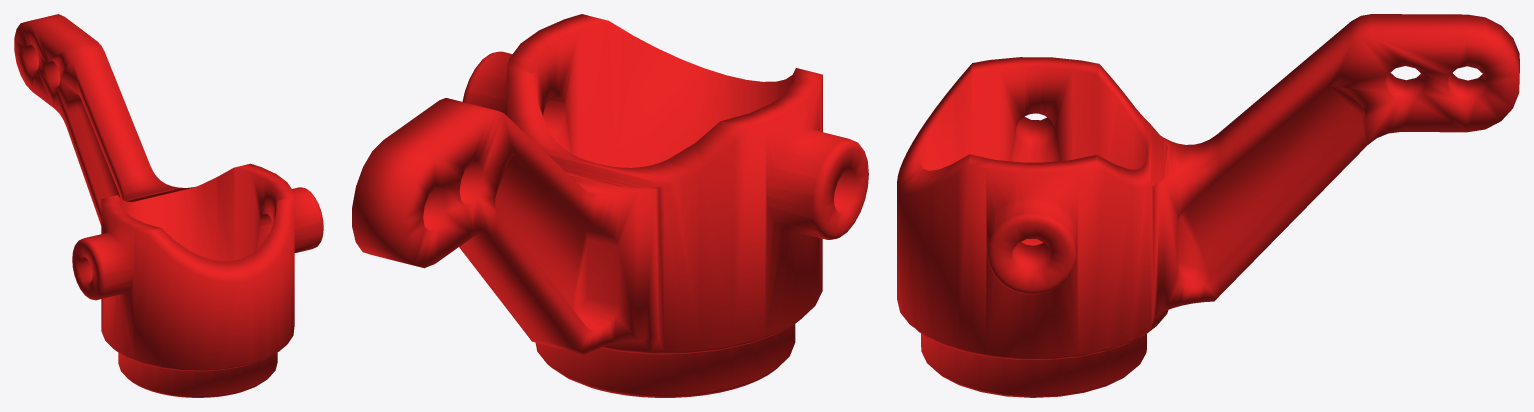
Rendered from front_right_steer.dae.
3 renders of one model, left to right at view 1: azimuth 30°, elevation 25°; view 2: azimuth 150°, elevation 25°; view 3: azimuth 270°, elevation 25°, orthographic. The views are drawn at different scales.
Parts seen in each view (by area): view 1: front_right_steer; view 2: front_right_steer; view 3: front_right_steer.
Boxes of the visible parts, x1,y1,x2,y2 form: front_right_steer: [14, 14, 323, 397]; front_right_steer: [352, 14, 868, 397]; front_right_steer: [897, 14, 1519, 397].
Bounding box in the file's own units: 0.0243 × 0.0414 × 0.0241.
